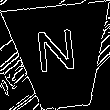N_S: (37, 29, 84, 84)
